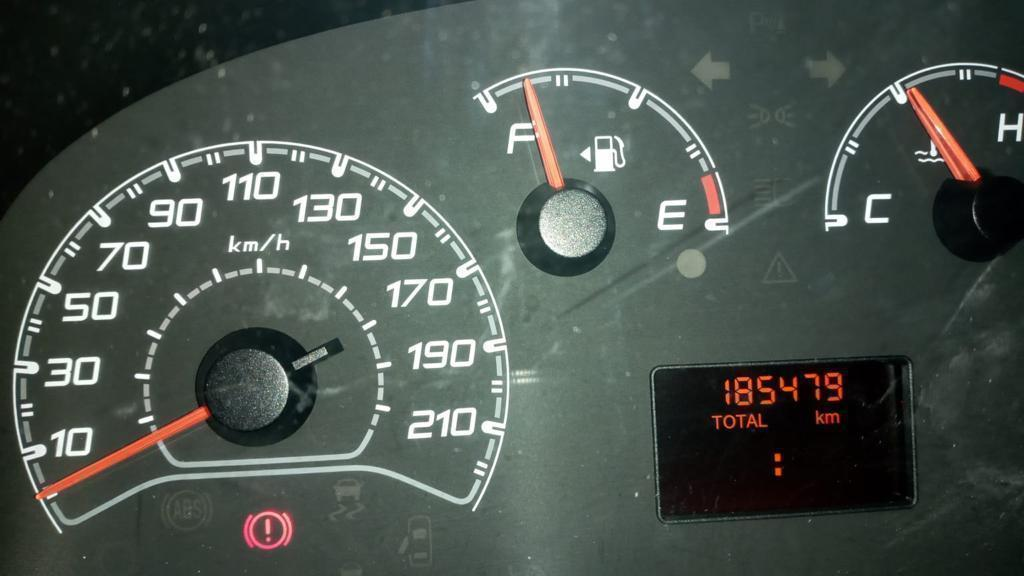1: (723, 377, 731, 407)
4: (778, 374, 800, 404)
5: (756, 373, 775, 404)
7: (803, 372, 821, 401)
8: (733, 375, 754, 405)
9: (824, 371, 845, 401)
X: (772, 451, 783, 478), (710, 412, 723, 430), (825, 411, 841, 425), (723, 413, 736, 429), (758, 412, 770, 429), (735, 413, 746, 429), (747, 413, 757, 429), (815, 408, 823, 427)
odometer: (647, 352, 921, 522)
